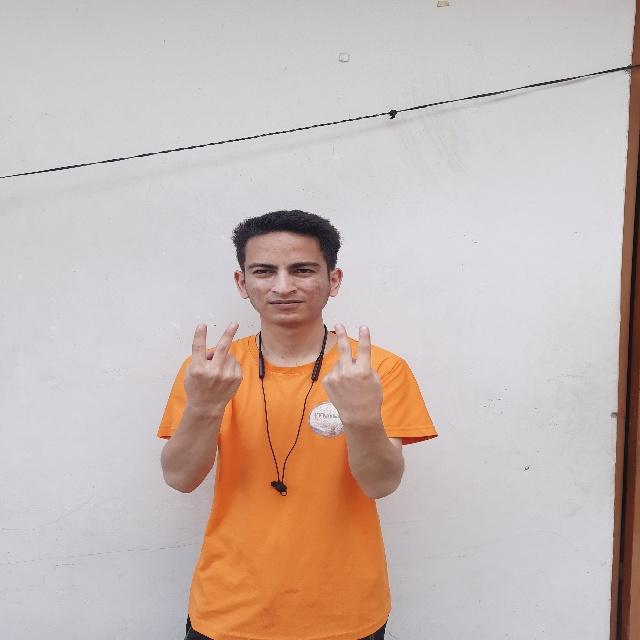Reversed Victory: (318, 318, 388, 433), (179, 317, 249, 428)
